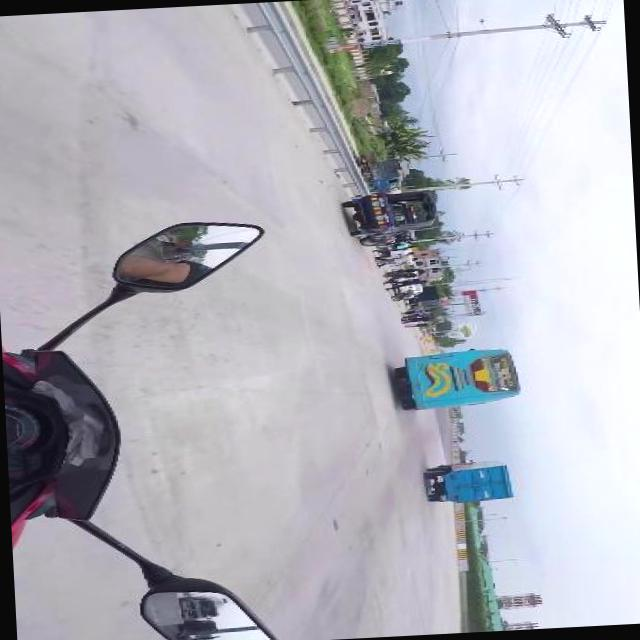bus: (395, 347, 522, 412)
car: (342, 188, 437, 248), (398, 276, 426, 298)
motorcycle: (393, 288, 417, 300)
truck: (426, 458, 514, 504), (359, 148, 400, 192), (406, 284, 438, 310)
